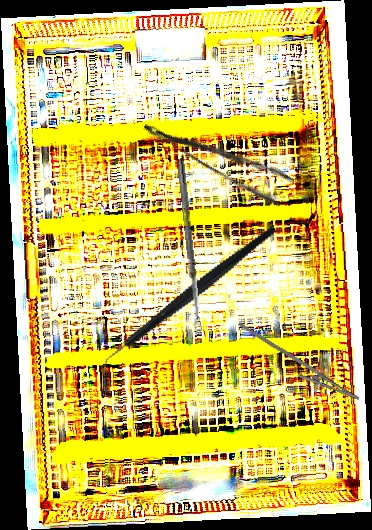Chopper: (75, 223, 303, 380)
Dressing Forceps: (141, 100, 296, 210)
Needle Holder: (225, 321, 368, 411)
Surgical Spoon: (175, 158, 203, 332)
